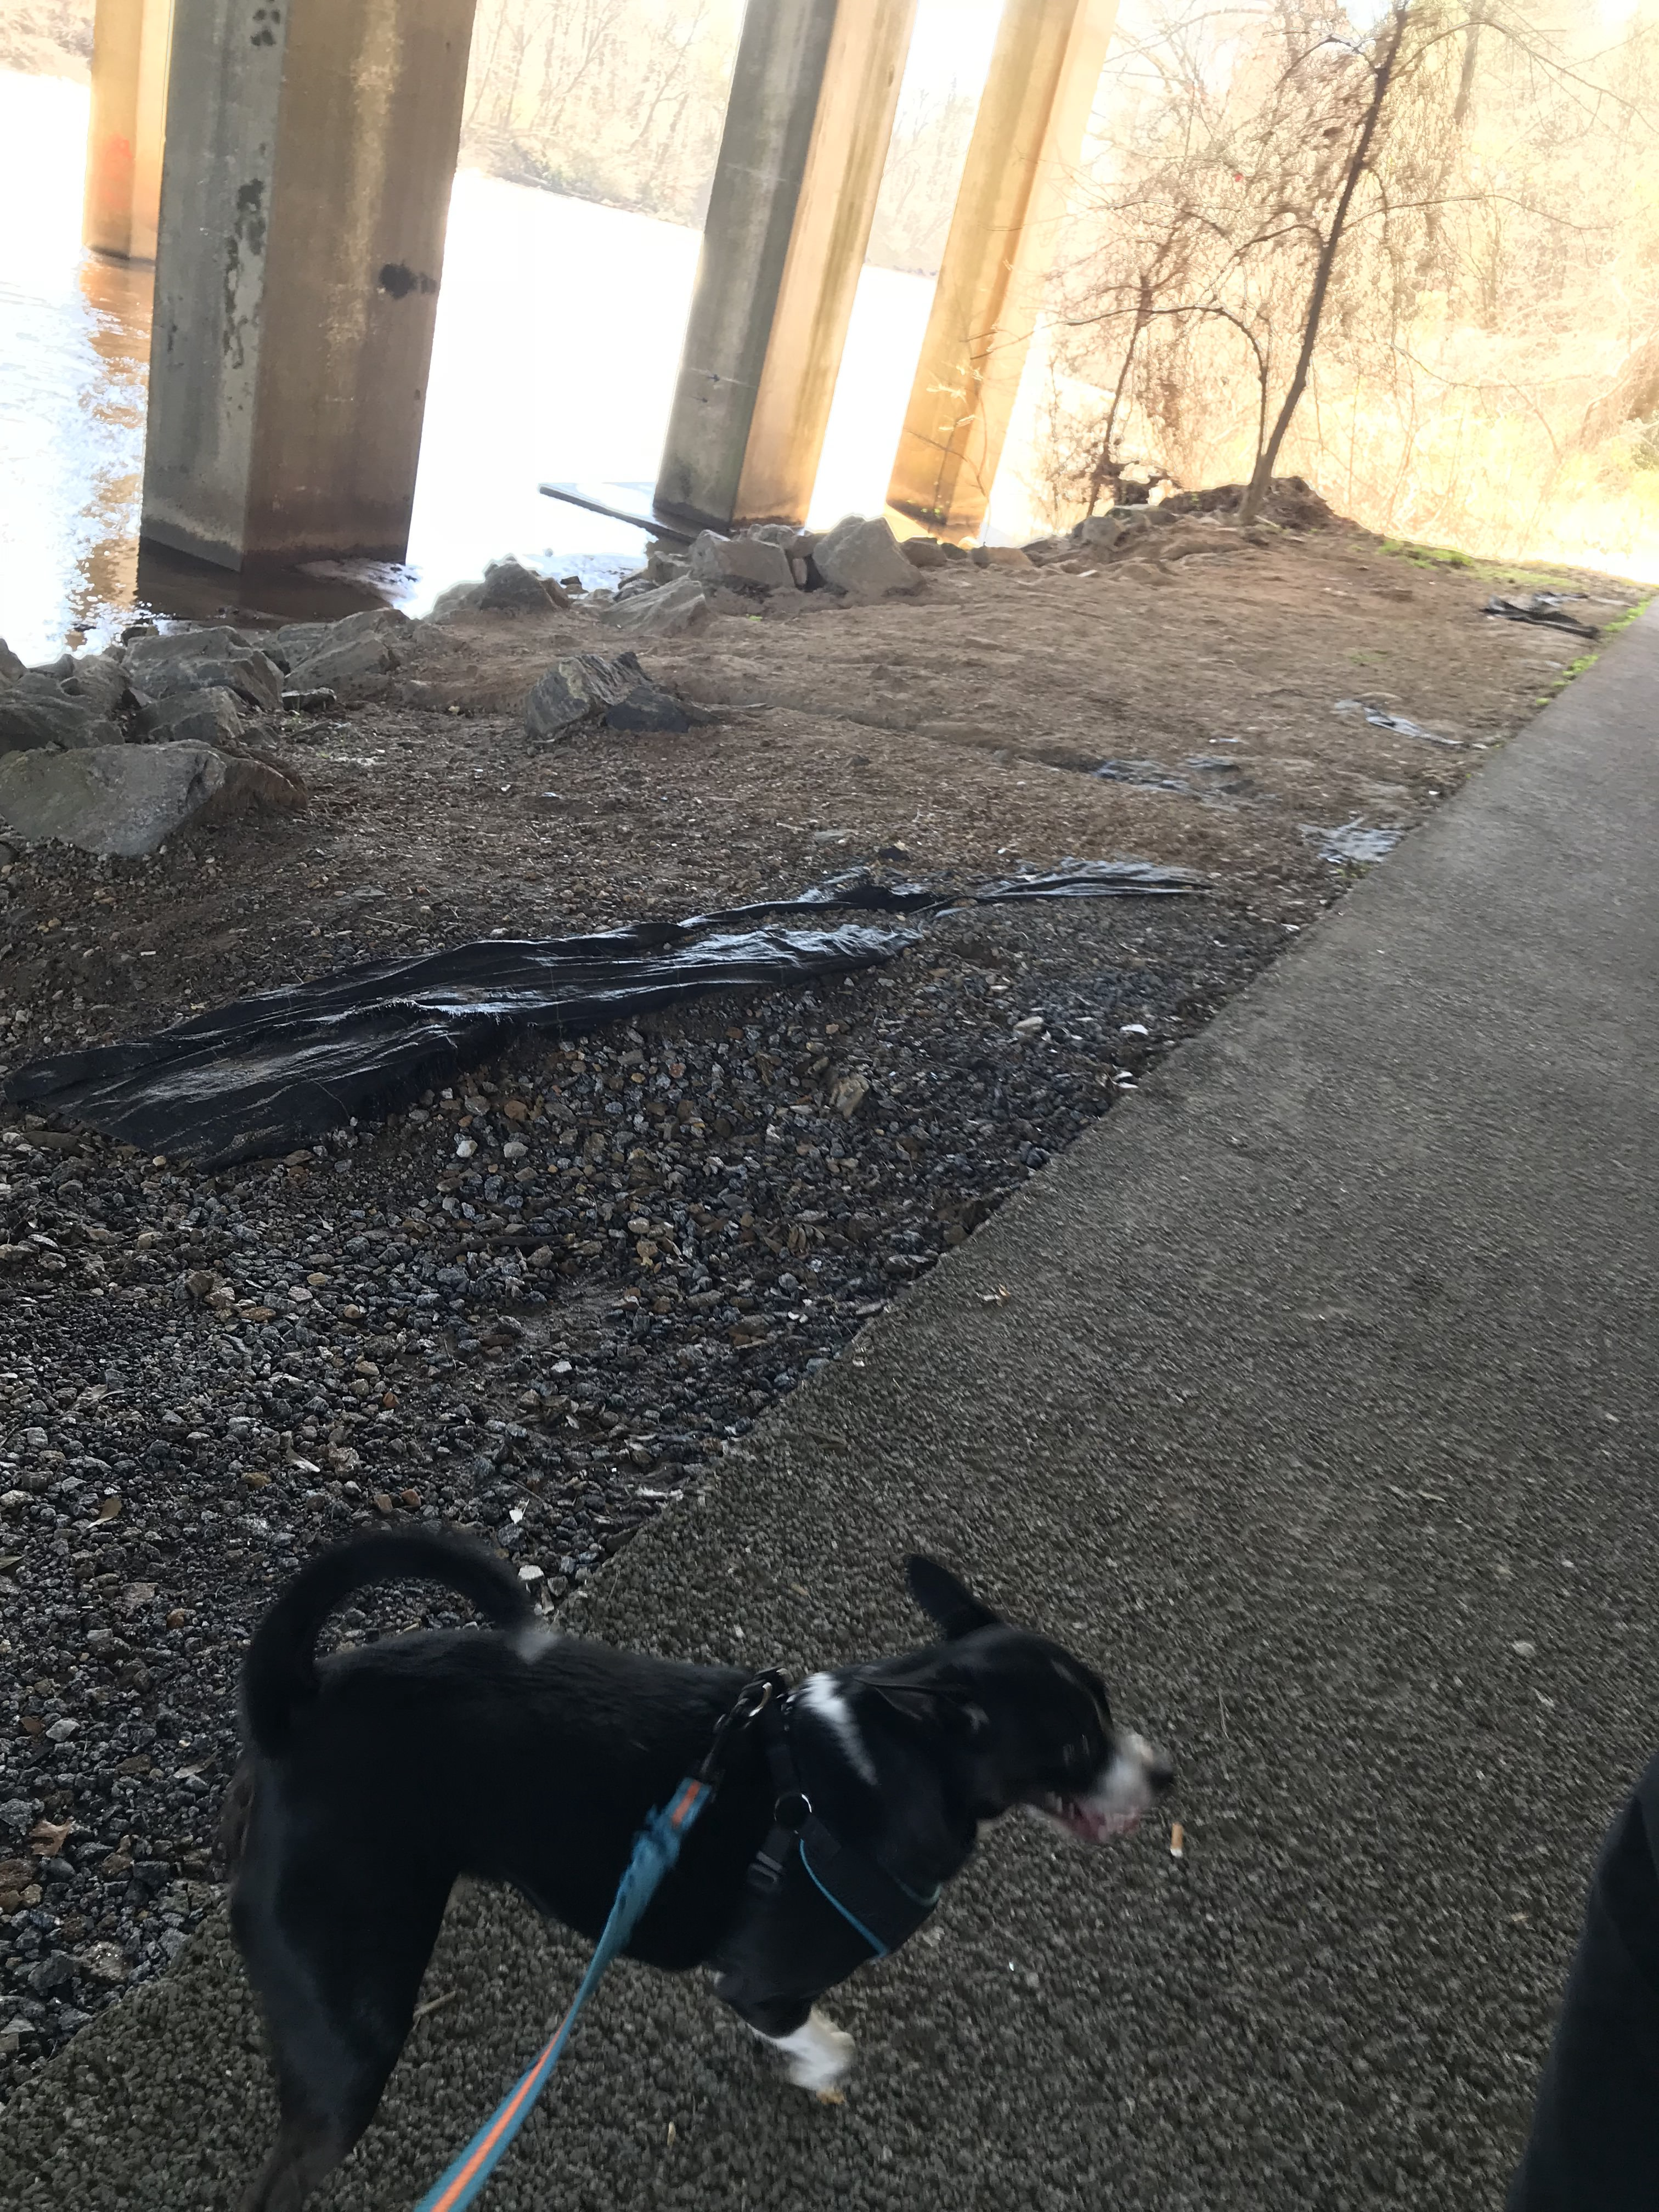Harley: (162, 1521, 1241, 2179)
